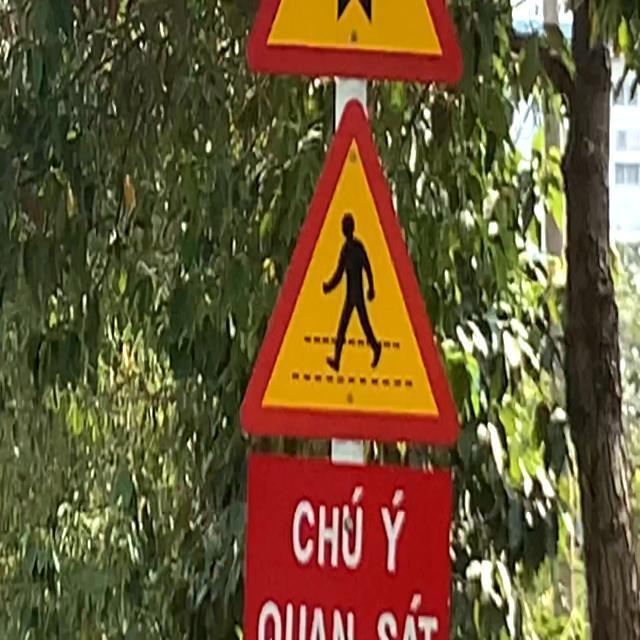224-duong-nguoi-di-bo-cat-ngang: (241, 103, 464, 445)
